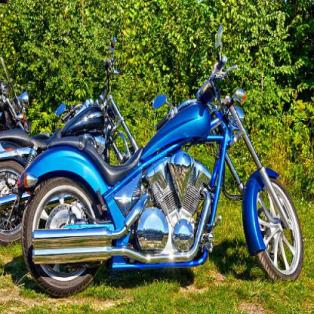Motocicleta: (19, 40, 305, 287), (3, 64, 116, 233)
